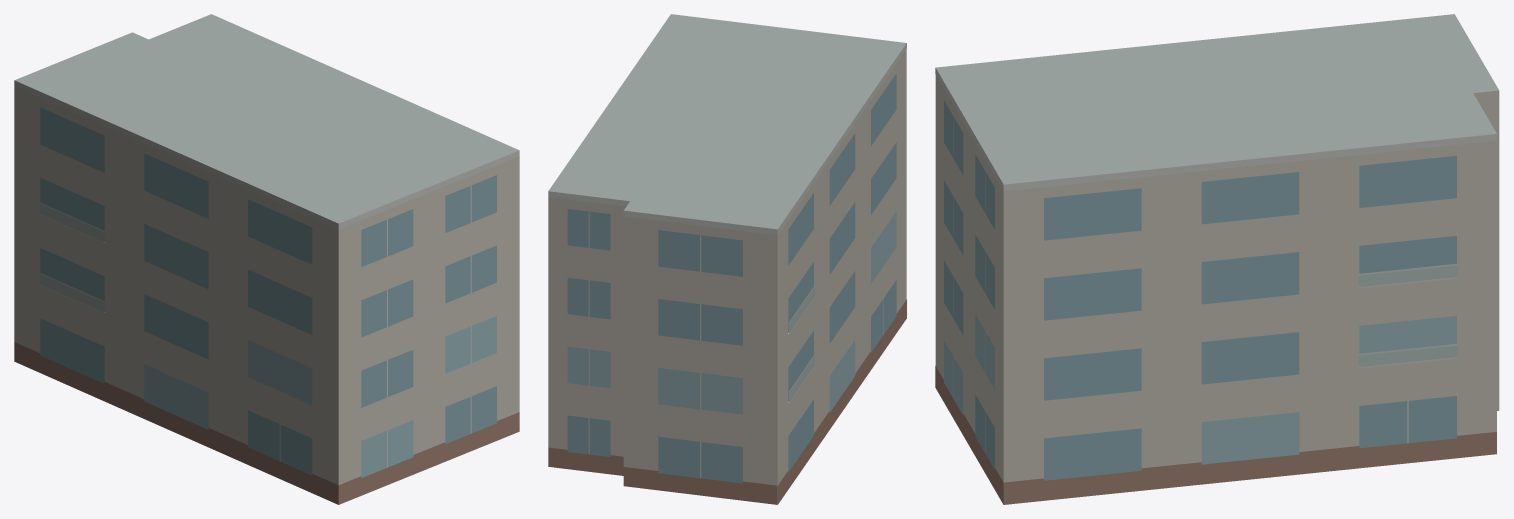
Rendered from survey-upis-32818945.glb.
3 renders of one model, left to right at view 1: azimuth 30°, elevation 25°; view 2: azimuth 150°, elevation 25°; view 3: azimuth 270°, elevation 25°, orthographic. The views are drawn at different scales.
Parts seen in each view (by area): view 1: survey-upis-32818945.tmp; view 2: survey-upis-32818945.tmp; view 3: survey-upis-32818945.tmp.
Boxes of the visible parts, left/top/right/bottom form: survey-upis-32818945.tmp: left=14, top=14, right=519, bottom=504; survey-upis-32818945.tmp: left=548, top=14, right=906, bottom=504; survey-upis-32818945.tmp: left=935, top=14, right=1499, bottom=504.
Size of the model in its own units: 13.38 by 11.7 by 18.68.
